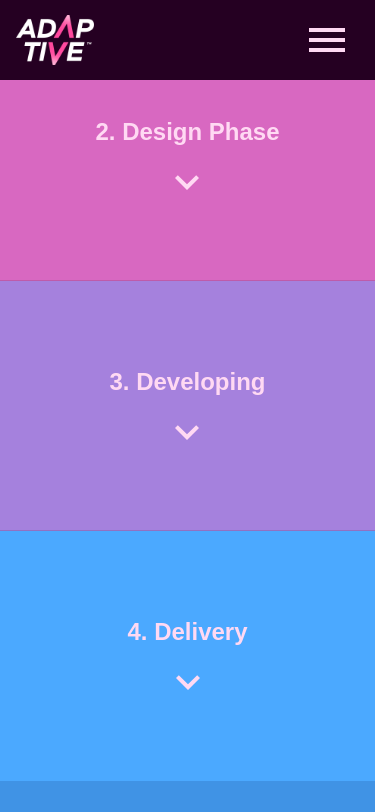
it: Vistor can see our process › For iphone-x view, successfully › is expected to show our process section › is expected to show Developing phase
(page scrolled)
expect the heading with test id "heading" reads "3. Developing": met, box [109,368,265,395]
Step 1. Click the button with test id "step-3" → (188, 412), box [110,368,266,456]
(page scrolled)
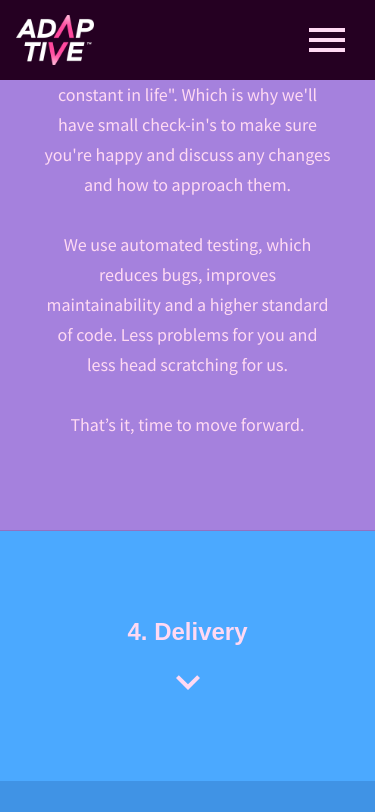
expect the text with test id "body-2" shows "As Heraclitus said \"change is the only constant in life\". Which is why": met, box [42,20,333,200]
expect the text with test id "body-3" shows "We use automated testing, which reduces bugs, improves maintainability and a higher standard of code. Less problems for you and less head scratching for us": met, box [42,200,333,380]
expect the text with test id "body-4" reads "That’s it, time to move forward.": met, box [70,413,304,436]
